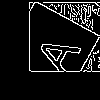A: (25, 25, 82, 78)
